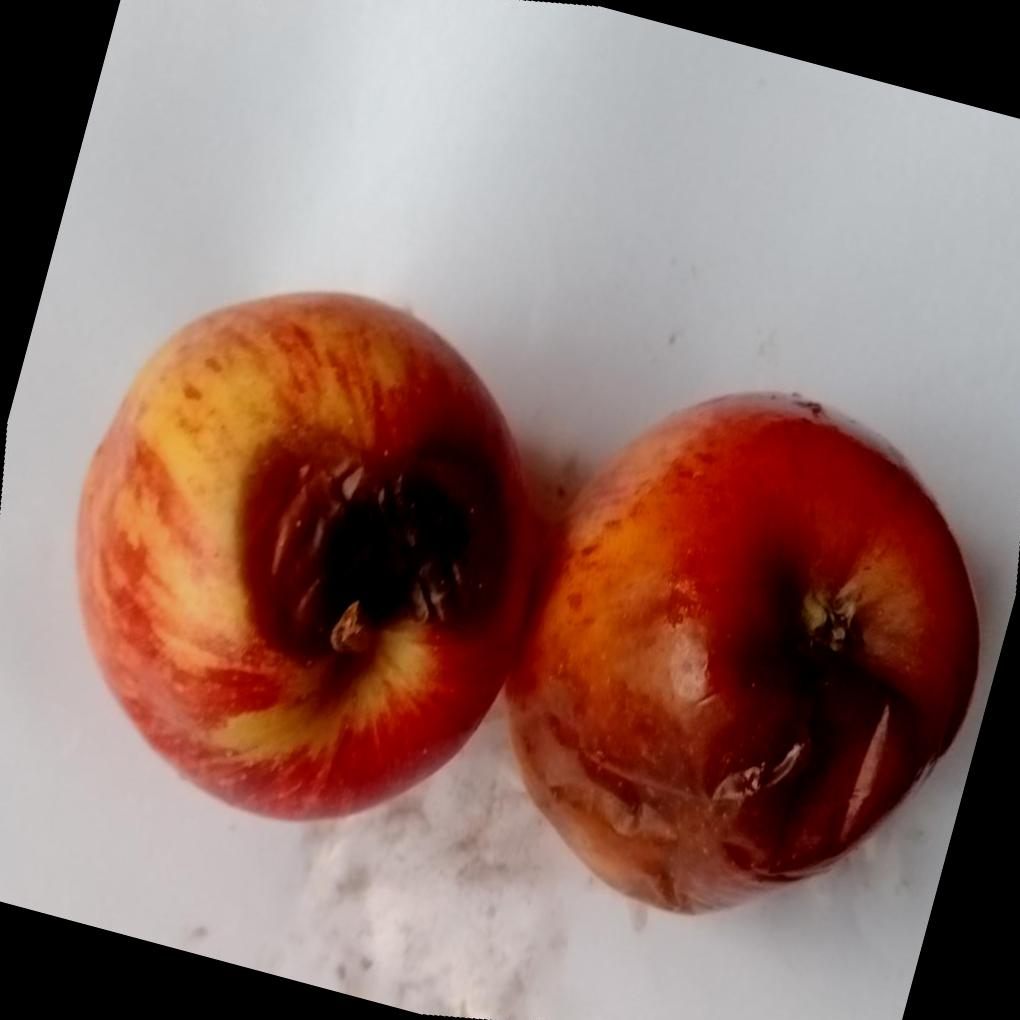FreshOrange: (68, 287, 978, 914)
